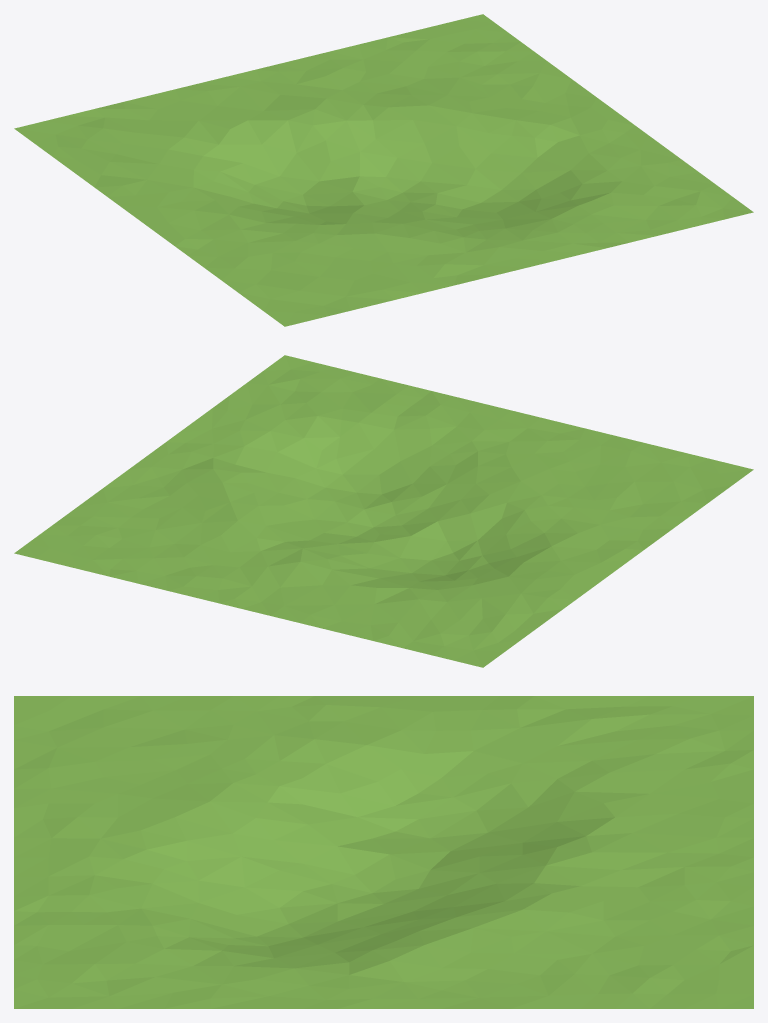
File: MT_Terrain_M_b_04_LOD.fbx
The picture shows the model from 3 angles, top to bottom: view 1: azimuth 30°, elevation 25°; view 2: azimuth 150°, elevation 25°; view 3: azimuth 270°, elevation 25°; orthographic projection. The views are drawn at different scales.
Visible parts, largest first — view 1: MT_Terrain_M_b_04_LOD0; view 2: MT_Terrain_M_b_04_LOD0; view 3: MT_Terrain_M_b_04_LOD0.
Boxes of the visible parts, x1=… form: MT_Terrain_M_b_04_LOD0: x1=14, y1=14, x2=753, y2=326; MT_Terrain_M_b_04_LOD0: x1=14, y1=355, x2=753, y2=667; MT_Terrain_M_b_04_LOD0: x1=14, y1=696, x2=753, y2=1008.
Size of what is drawn, in the model's own units: 5000 by 278 by 5000.
